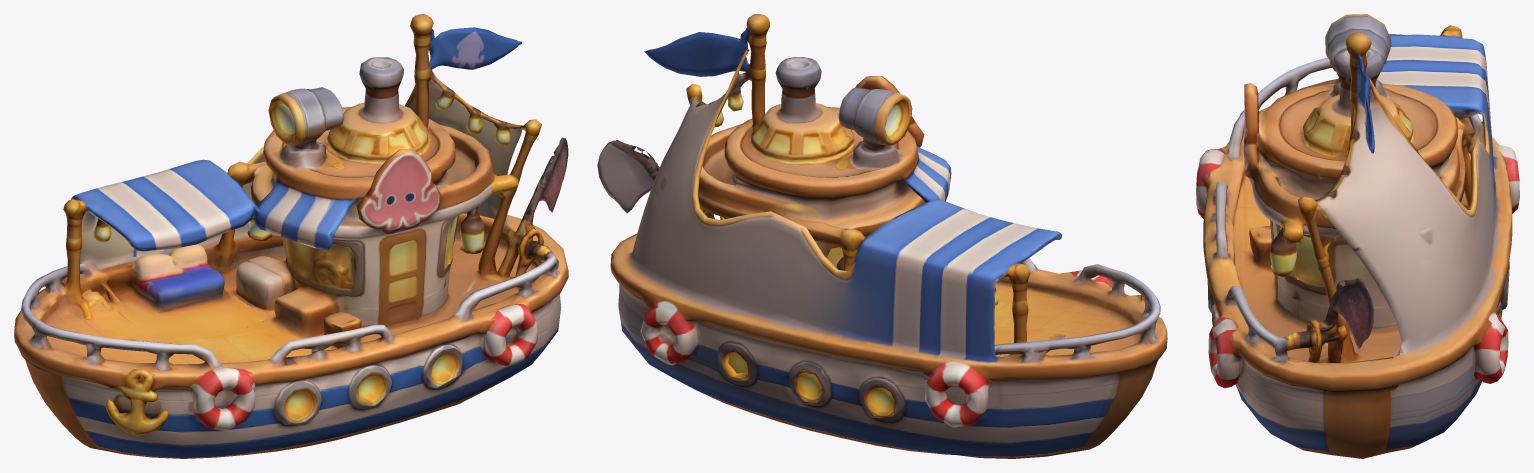
Rendered from squid-boat.glb.
3 renders of one model, left to right at view 1: azimuth 30°, elevation 25°; view 2: azimuth 150°, elevation 25°; view 3: azimuth 270°, elevation 25°, orthographic. The views are drawn at different scales.
Visible parts, largest first — view 1: tripo_node_40f0fbdb-cc19-4f77-b7a3-65aa085e88a6; view 2: tripo_node_40f0fbdb-cc19-4f77-b7a3-65aa085e88a6; view 3: tripo_node_40f0fbdb-cc19-4f77-b7a3-65aa085e88a6.
Boxes of the visible parts, x1,y1,x2,y2 form: tripo_node_40f0fbdb-cc19-4f77-b7a3-65aa085e88a6: [14, 14, 568, 458]; tripo_node_40f0fbdb-cc19-4f77-b7a3-65aa085e88a6: [597, 14, 1167, 458]; tripo_node_40f0fbdb-cc19-4f77-b7a3-65aa085e88a6: [1196, 14, 1519, 458].
Bounding box in the file's own units: 0.9738 × 0.5995 × 0.4598.
1 material, 1 textured.
